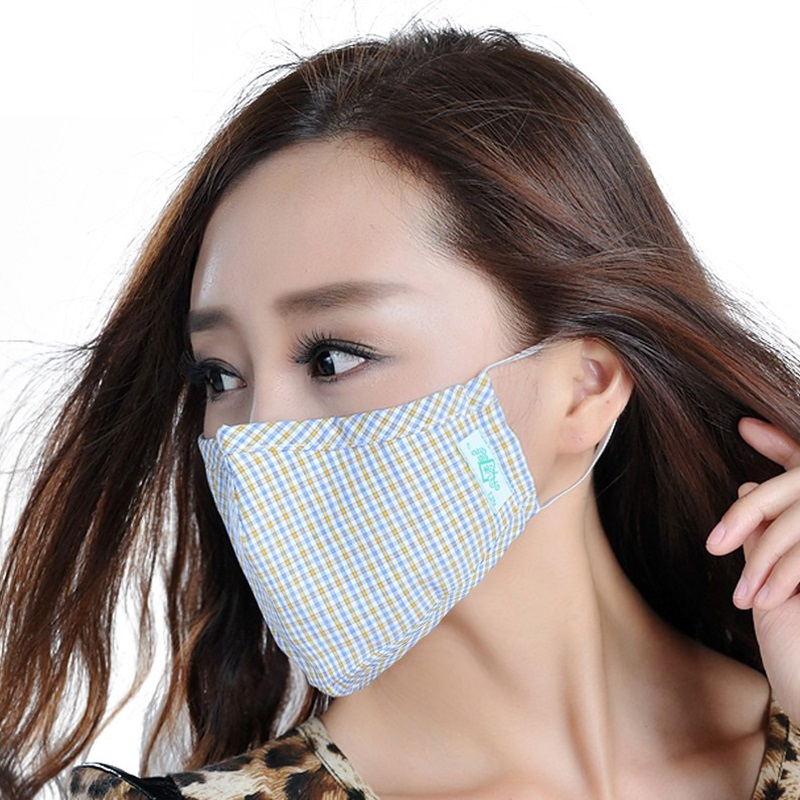face_mask: (184, 167, 533, 653)
